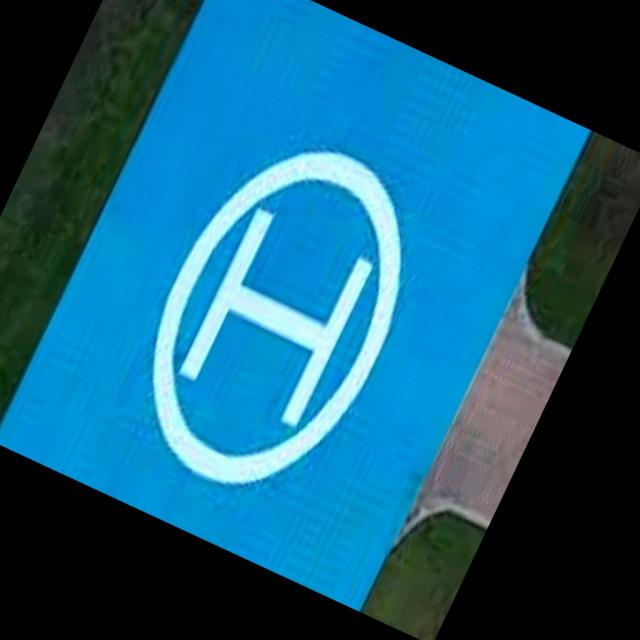helipad: (146, 145, 405, 492)
